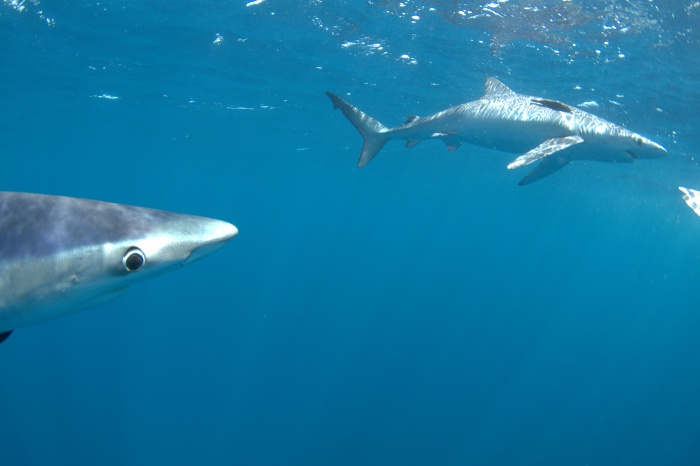Azul: (321, 69, 700, 199)
